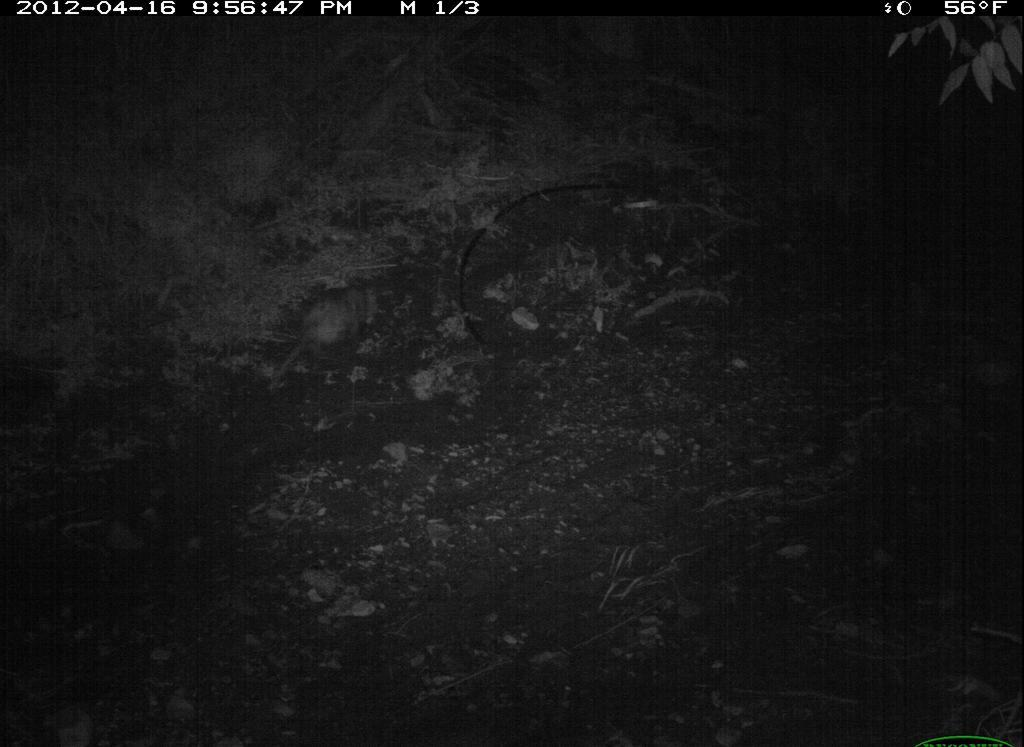opossum: (246, 271, 411, 402)
